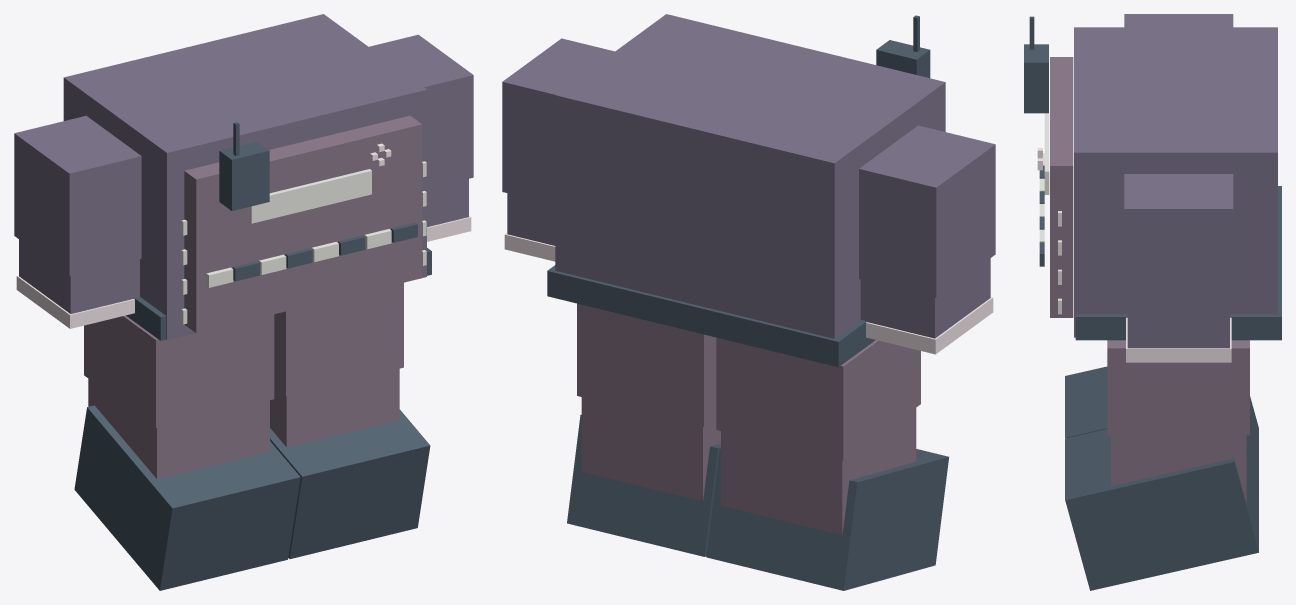
Rendered from police-rose.glb.
3 renders of one model, left to right at view 1: azimuth 30°, elevation 25°; view 2: azimuth 150°, elevation 25°; view 3: azimuth 270°, elevation 25°, orthographic. The views are drawn at different scales.
Visible parts, largest first — view 1: jacket, duty-vest, shoe-Right, upper-sleeve-Right, trouser-Right, shoe-Left, trouser-Left, lower-trouser-Right, upper-sleeve-Left, lower-trouser-Left, lower-sleeve-Right, vest-label (+5 smaller); view 2: jacket, upper-sleeve-Right, shoe-Right, trouser-Right, trouser-Left, lower-trouser-Right, lower-trouser-Left, duty-belt, upper-sleeve-Left, shoe-Left, lower-sleeve-Right, cuff-Right (+3 smaller); view 3: jacket, shoe-Left, upper-sleeve-Left, trouser-Left, duty-vest, lower-trouser-Left, lower-sleeve-Left, shoe-Right, duty-belt, radio, cuff-Left, upper-sleeve-Right (+1 smaller).
Part boxes in pixels (x1,y1,x2,y2): jacket: (63,14,426,340); duty-vest: (184,115,422,333); shoe-Right: (74,405,300,590); upper-sleeve-Right: (14,115,141,276); trouser-Right: (84,314,274,427); shoe-Left: (270,409,430,558); trouser-Left: (274,282,403,396); lower-trouser-Right: (88,379,269,478); upper-sleeve-Left: (369,34,473,188); lower-trouser-Left: (270,368,399,447); lower-sleeve-Right: (19,239,139,313); vest-label: (249,169,371,223); jacket: (555,14,945,338); upper-sleeve-Right: (859,125,995,297); shoe-Right: (706,448,948,590); trouser-Right: (716,337,920,460); trouser-Left: (577,303,716,426); lower-trouser-Right: (721,408,916,534); lower-trouser-Left: (581,397,720,501); duty-belt: (547,265,875,367); upper-sleeve-Left: (502,38,614,204); shoe-Left: (567,414,720,556); lower-sleeve-Right: (860,258,990,338); cuff-Right: (866,297,993,354); jacket: (1074,27,1277,337); shoe-Left: (1065,429,1258,590); upper-sleeve-Left: (1124,174,1233,309); trouser-Left: (1107,340,1249,435); duty-vest: (1050,57,1073,317); lower-trouser-Left: (1111,435,1246,503); lower-sleeve-Left: (1127,310,1229,348); shoe-Right: (1065,366,1258,489); duty-belt: (1075,186,1281,340); radio: (1024,44,1048,113); cuff-Left: (1126,317,1231,362); upper-sleeve-Right: (1124,14,1233,27).
Bounding box in the file's own units: 1.07 × 1.21 × 0.6.
